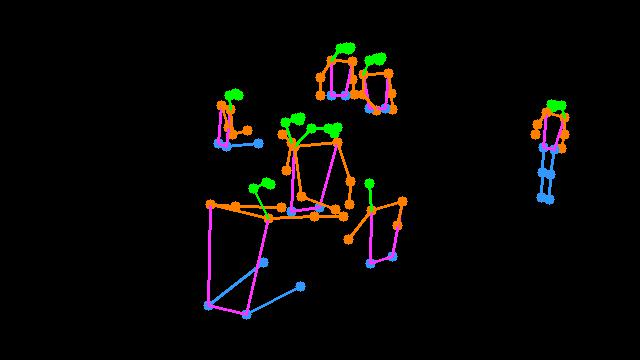normal: (516, 86, 579, 225)
